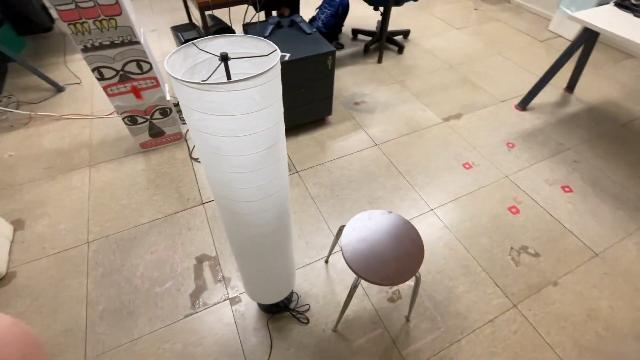Lamp: (163, 30, 301, 320)
Stool: (322, 207, 426, 335)
